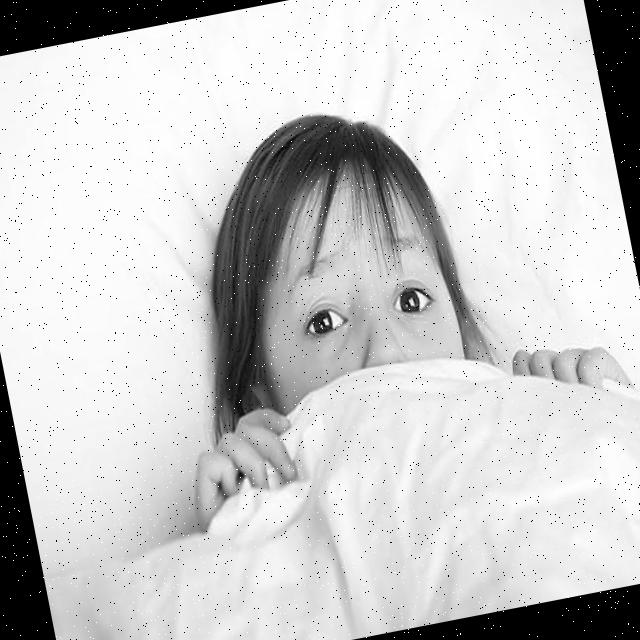Fear: (256, 156, 460, 385)
